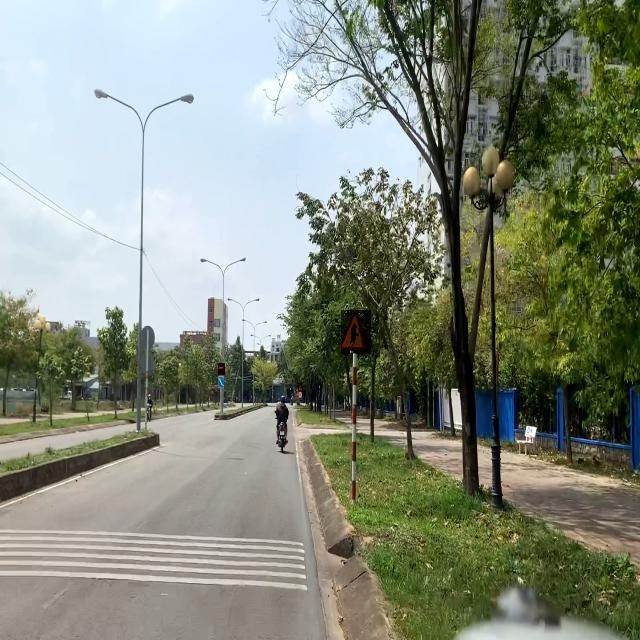bien_nguy_hiem: (341, 310, 371, 354), (218, 364, 225, 376), (218, 376, 224, 388), (298, 383, 303, 391), (298, 392, 302, 398)
